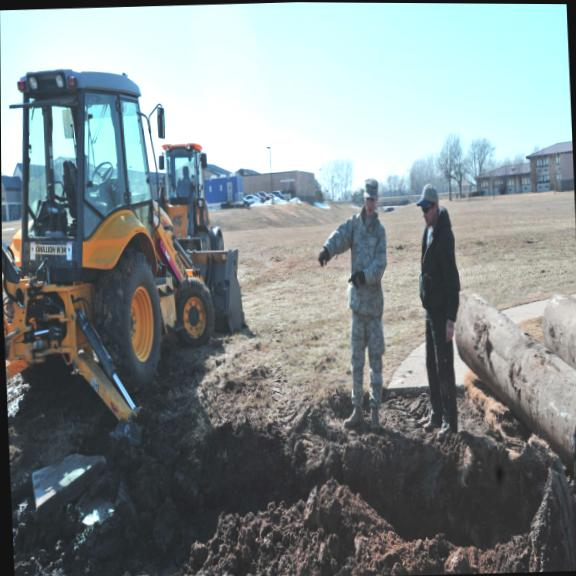no_safety_vest: (343, 211, 390, 312), (414, 211, 460, 307)
